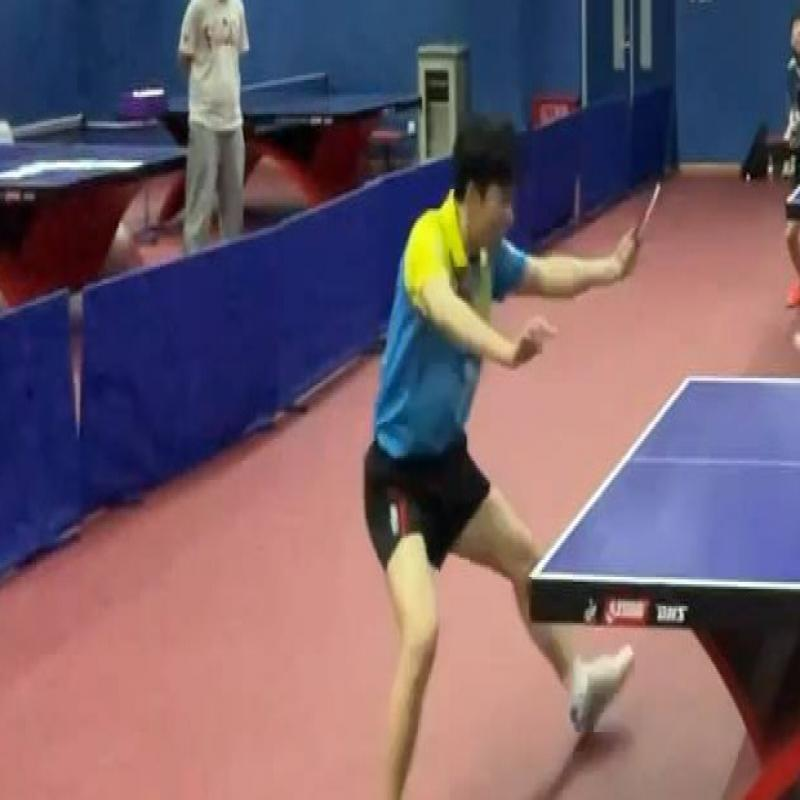bats: (622, 180, 670, 272)
